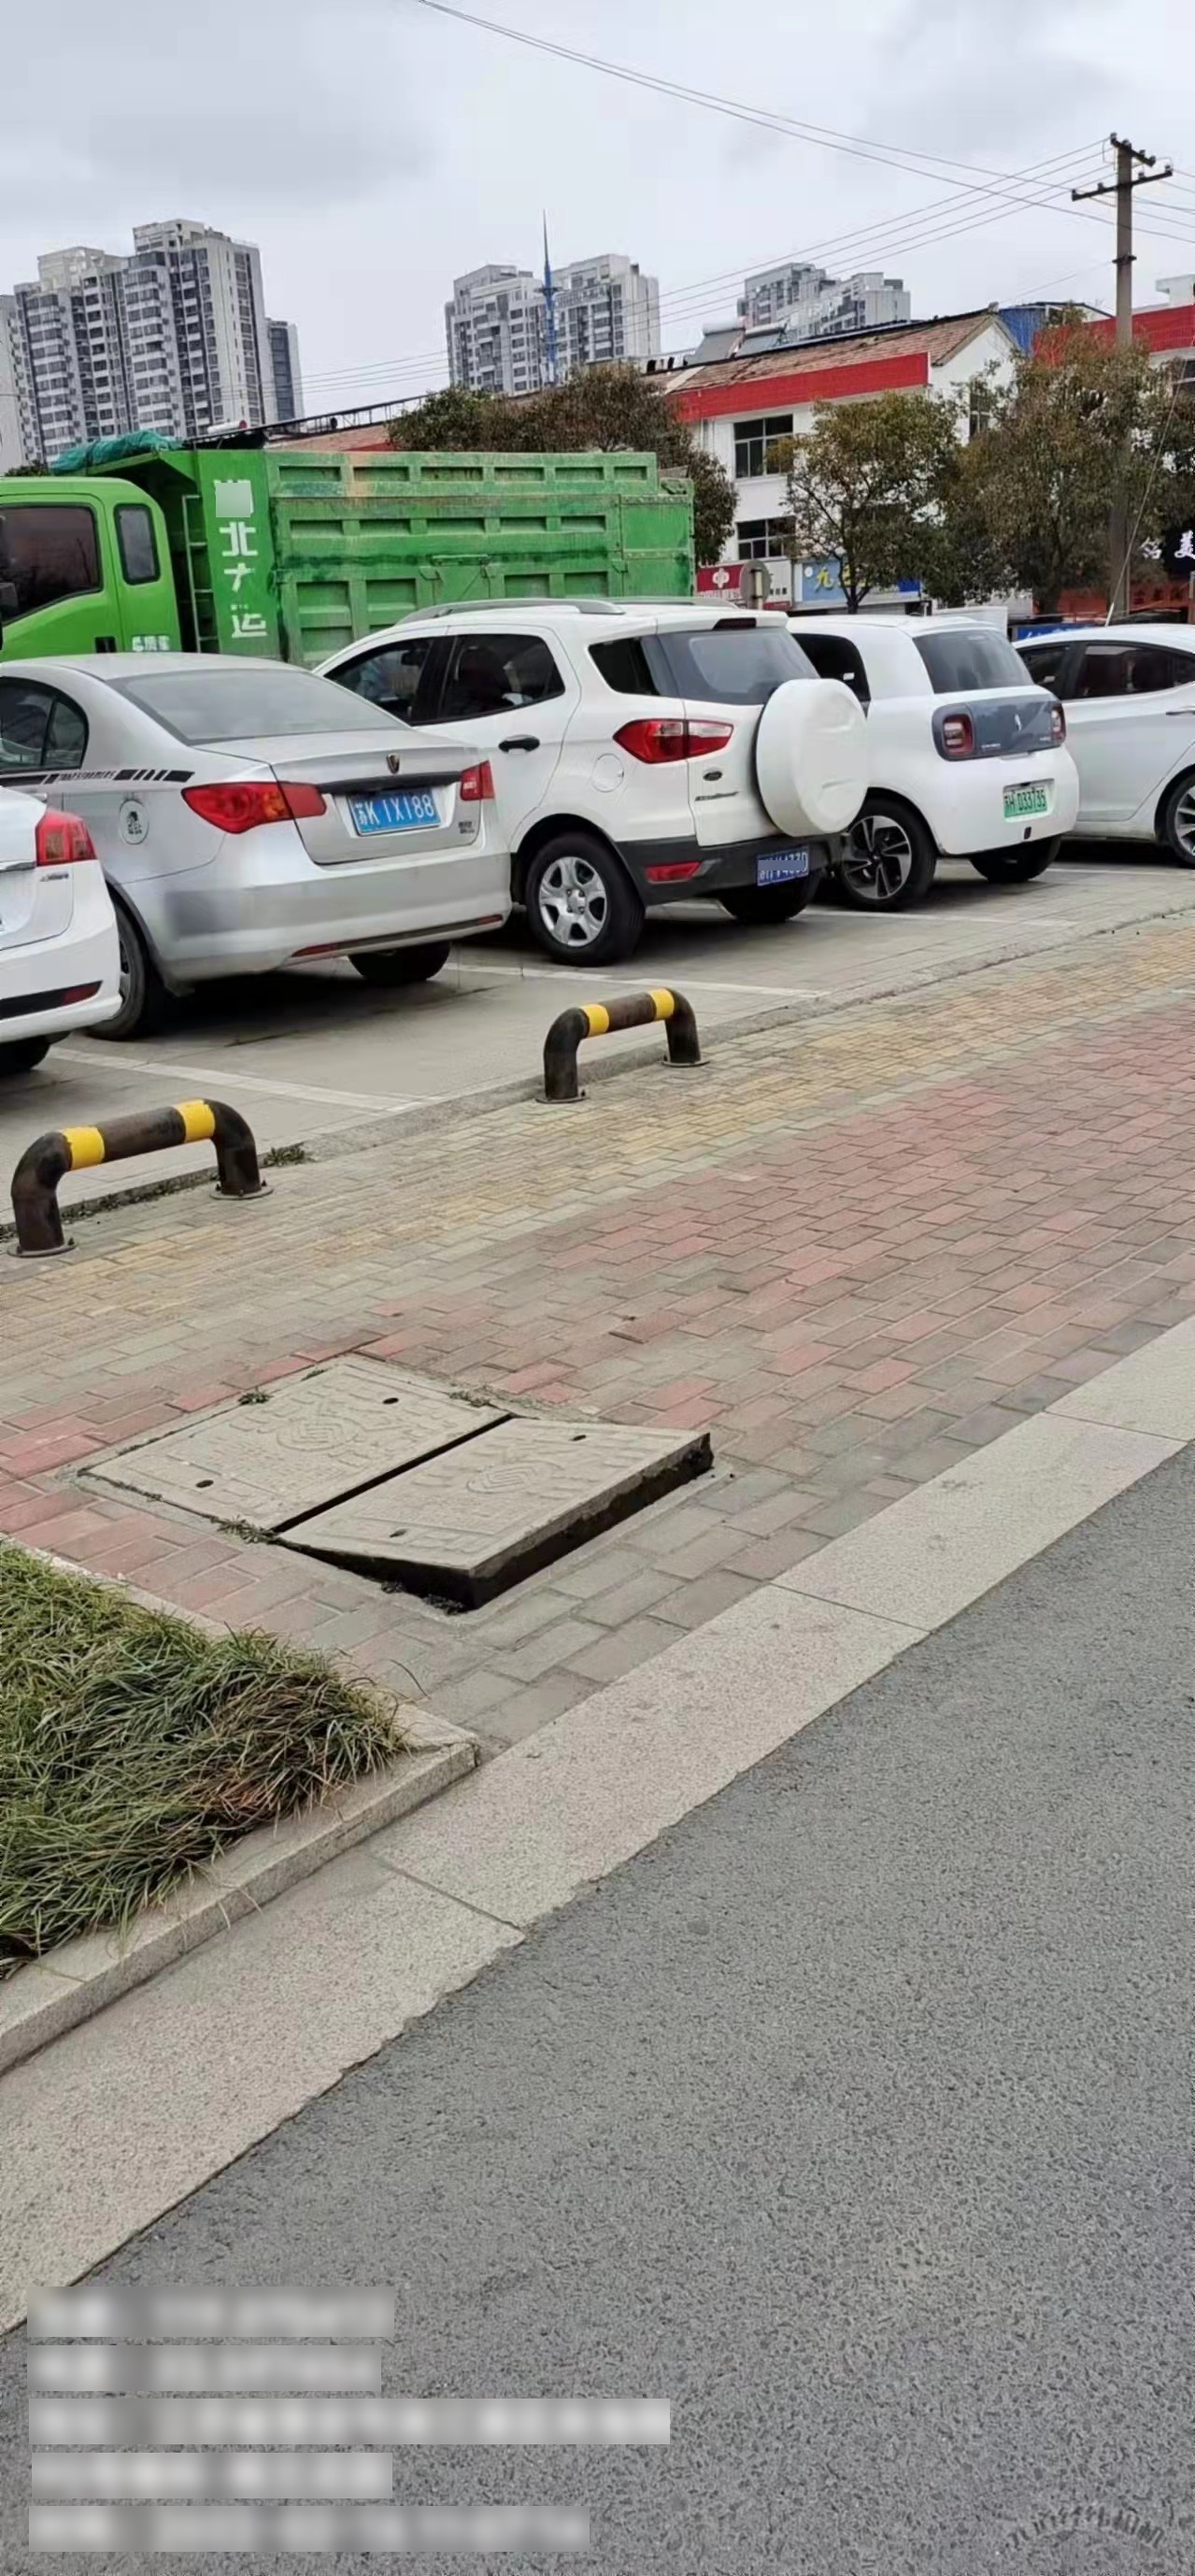uncovered: (72, 1354, 723, 1618)
